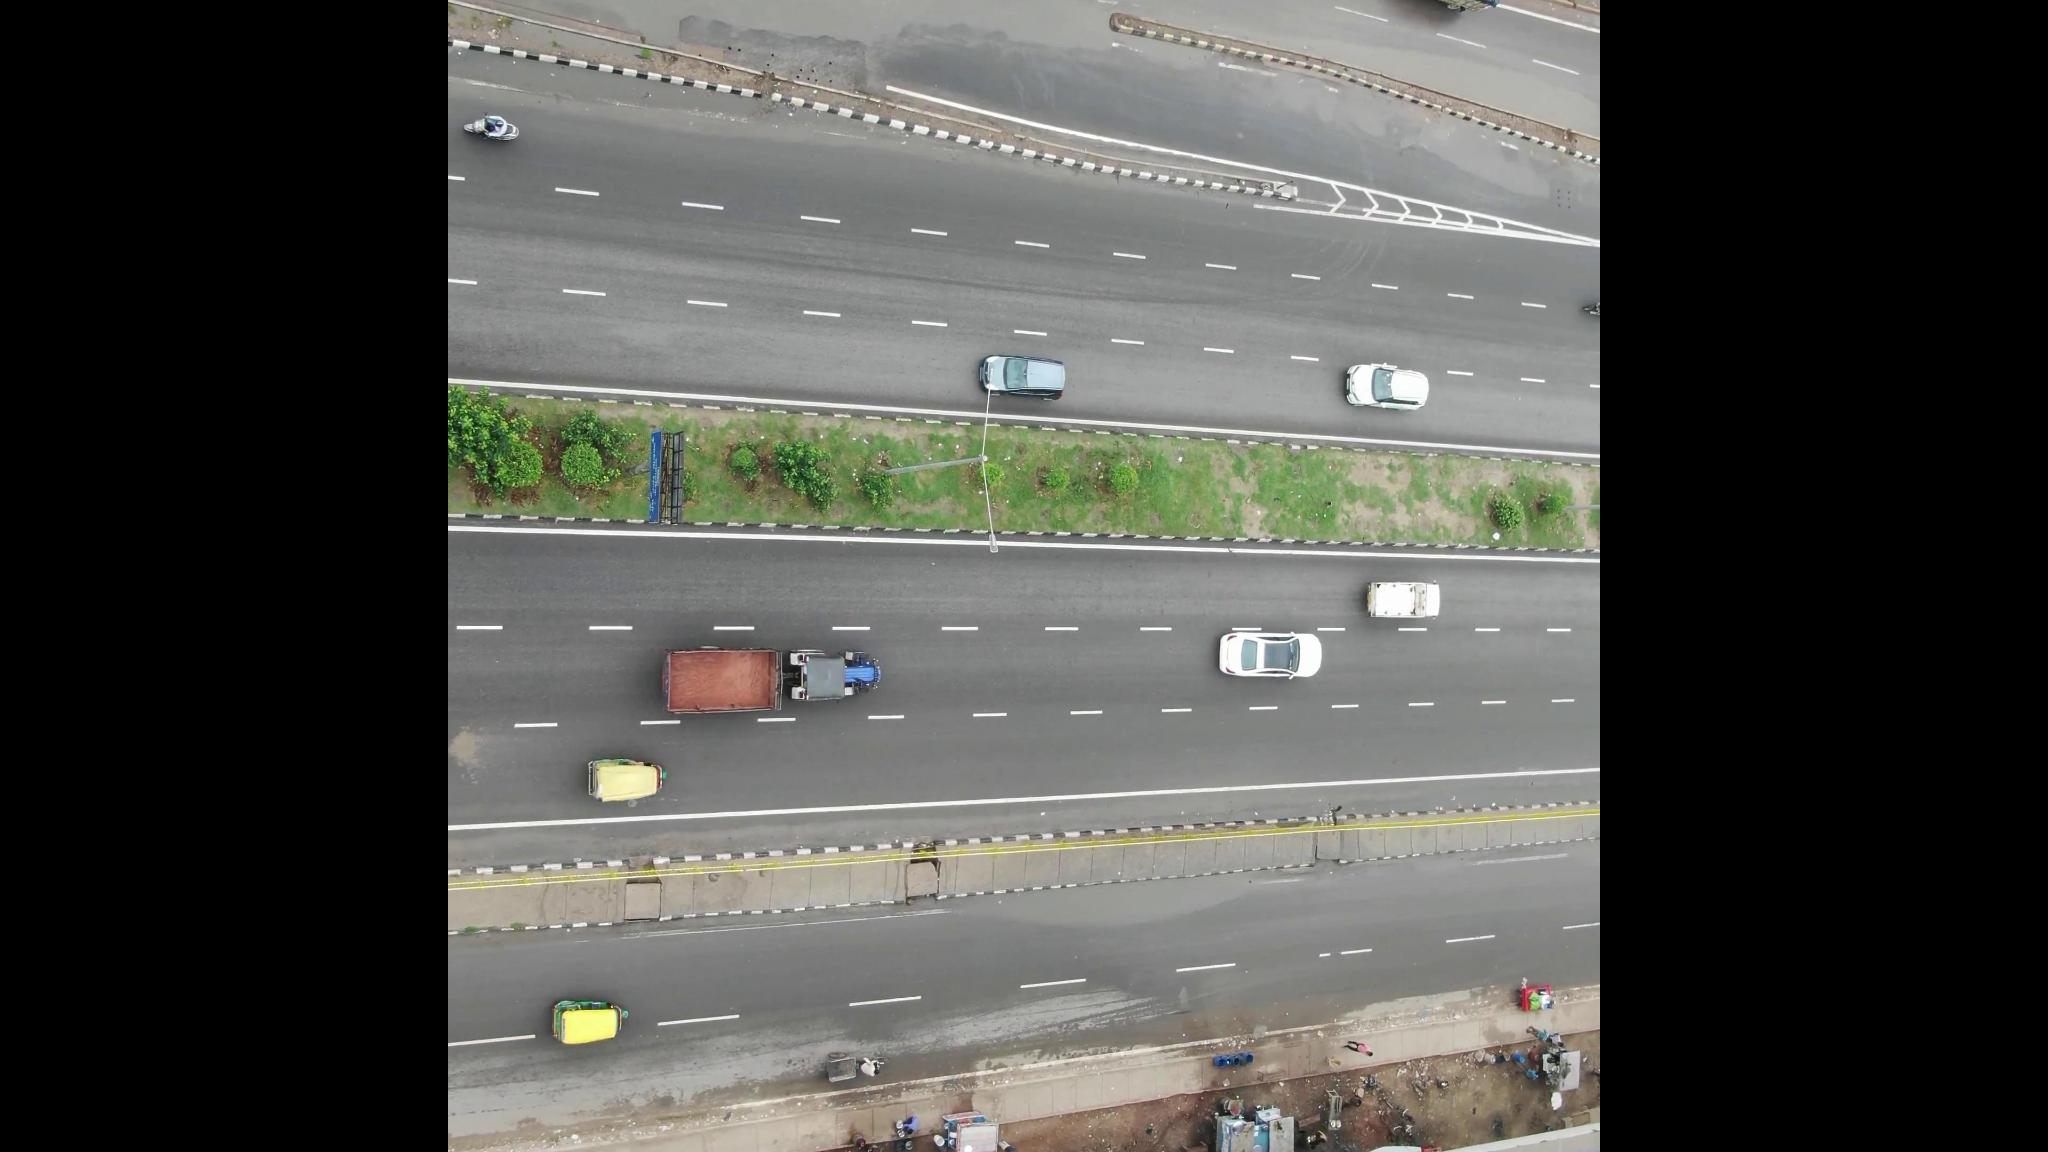Waterlogging: (610, 1, 1004, 76), (1332, 91, 1547, 198), (968, 875, 1260, 938)
